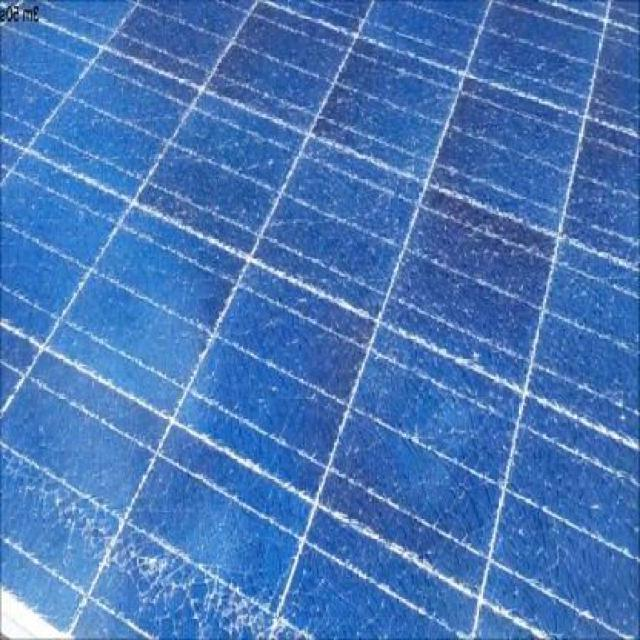cracked: (0, 0, 633, 639)
